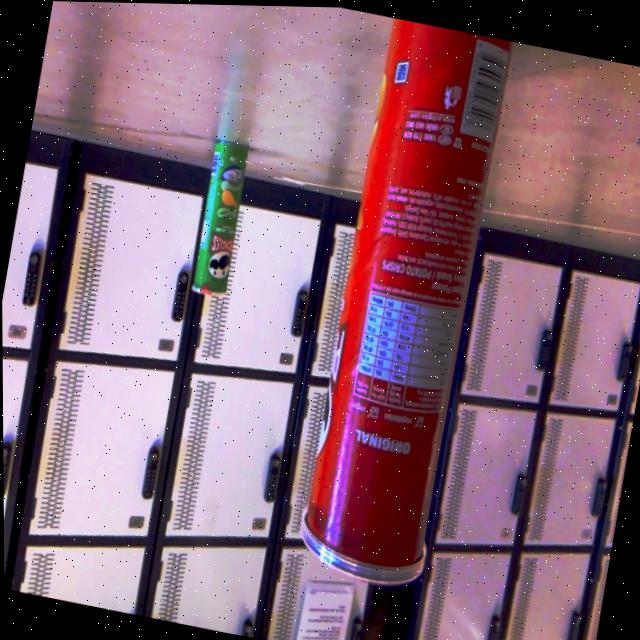greenpringles: (166, 121, 264, 319)
redpringles: (276, 10, 538, 614)
